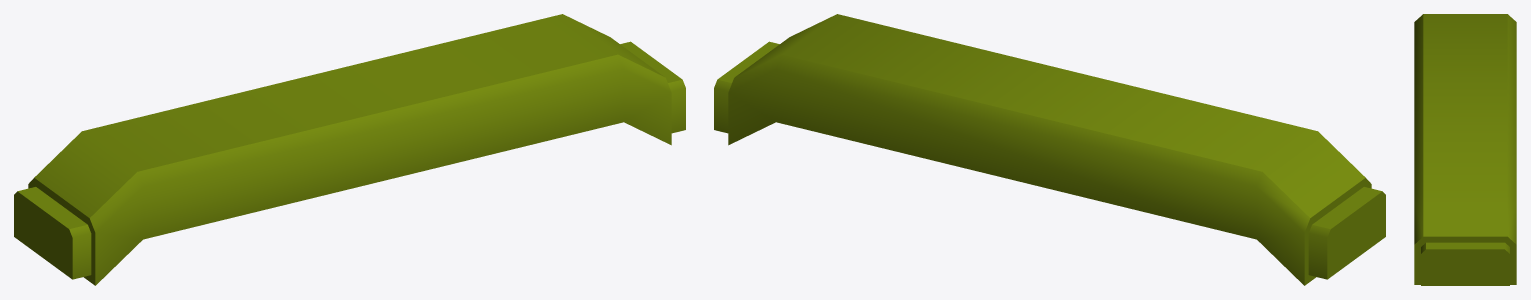
File: DoorTopConnector.FBX
3 renders of one model, left to right at view 1: azimuth 30°, elevation 25°; view 2: azimuth 150°, elevation 25°; view 3: azimuth 270°, elevation 25°, orthographic. The views are drawn at different scales.
Parts seen in each view (by area): view 1: Object207; view 2: Object207; view 3: Object207.
Part boxes in pixels (x1,y1,x2,y2): Object207: [14, 14, 685, 285]; Object207: [714, 14, 1385, 285]; Object207: [1414, 14, 1516, 285].
Bounding box in the file's own units: 131 × 19.99 × 24.74.
